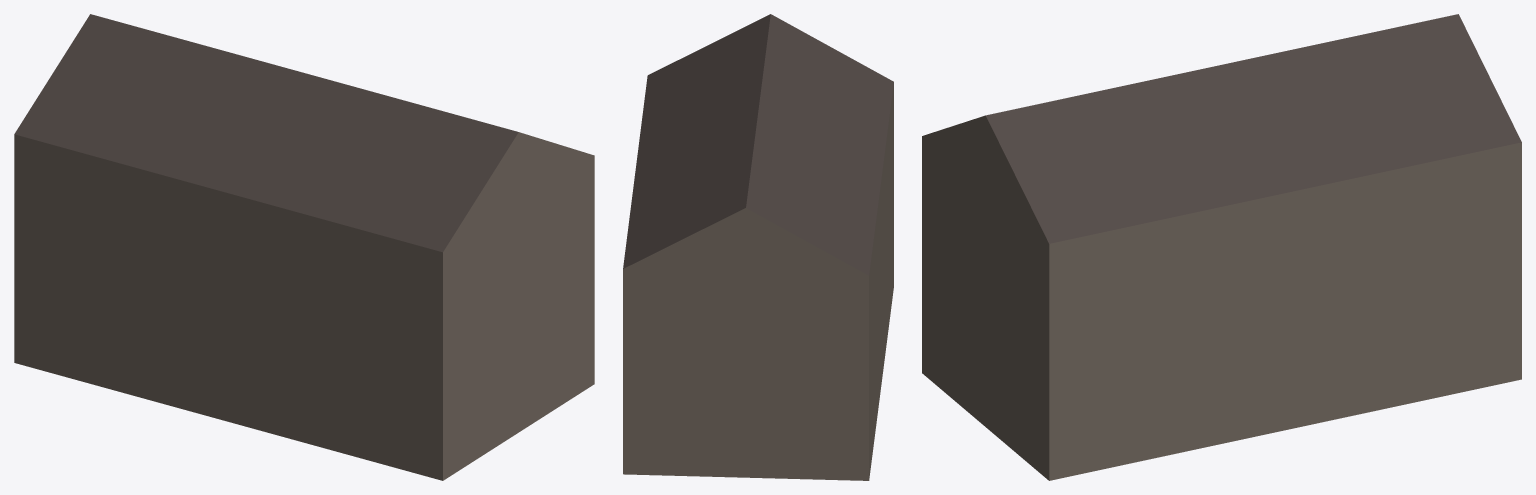
The picture shows the model from 3 angles, left to right: view 1: azimuth 30°, elevation 25°; view 2: azimuth 150°, elevation 25°; view 3: azimuth 270°, elevation 25°; orthographic projection. The views are drawn at different scales.
Visible parts, largest first — view 1: HP-w293414330; view 2: HP-w293414330; view 3: HP-w293414330.
Part boxes in pixels (x1,y1,x2,y2): HP-w293414330: (14,14,594,480); HP-w293414330: (623,14,893,480); HP-w293414330: (922,14,1521,480).
Bounding box in the file's own units: 11.36 × 7.89 × 13.76.
